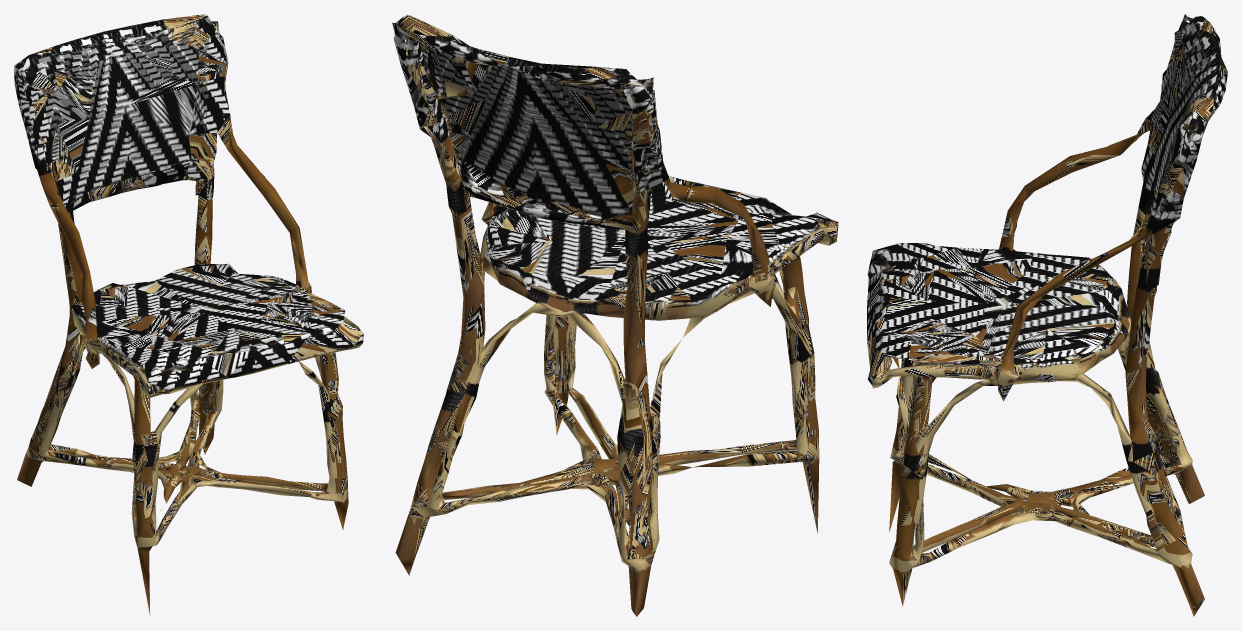
The model's file is chair-rattan.glb.
3 views of the same model, side by side, from view 1: azimuth 30°, elevation 25°; view 2: azimuth 150°, elevation 25°; view 3: azimuth 270°, elevation 25° (orthographic). The views are drawn at different scales.
Size of the model in its own units: 0.9714 by 1.89 by 1.17.
Materials: 1 (1 with a texture image).
